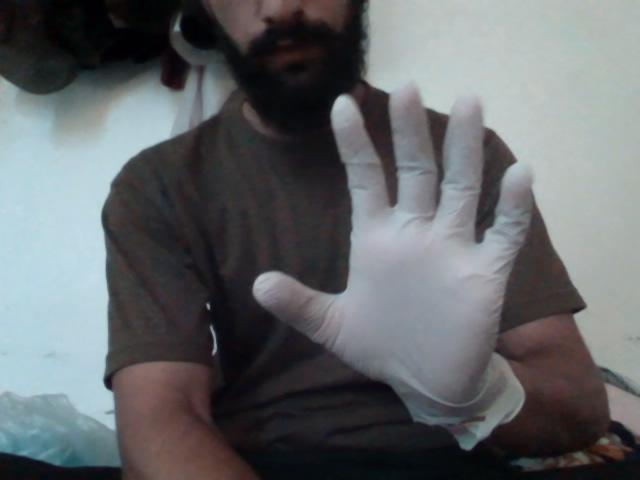gloves: (247, 77, 561, 448)
